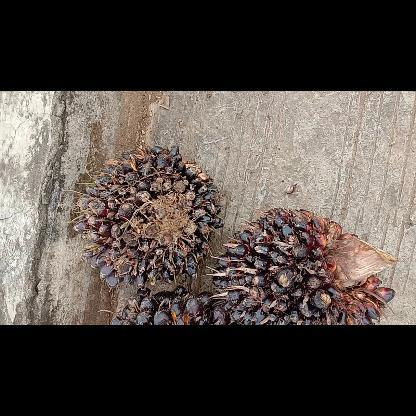TBS mentah: (70, 143, 228, 289), (212, 204, 400, 324), (104, 286, 236, 324)
